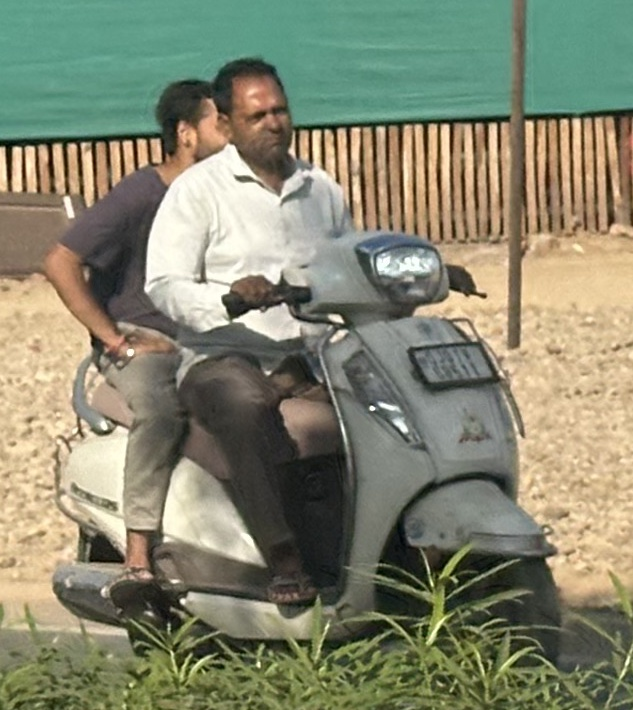BikeWithRider: (30, 48, 578, 693)
NoHelmet: (201, 52, 307, 167), (142, 71, 238, 173)
